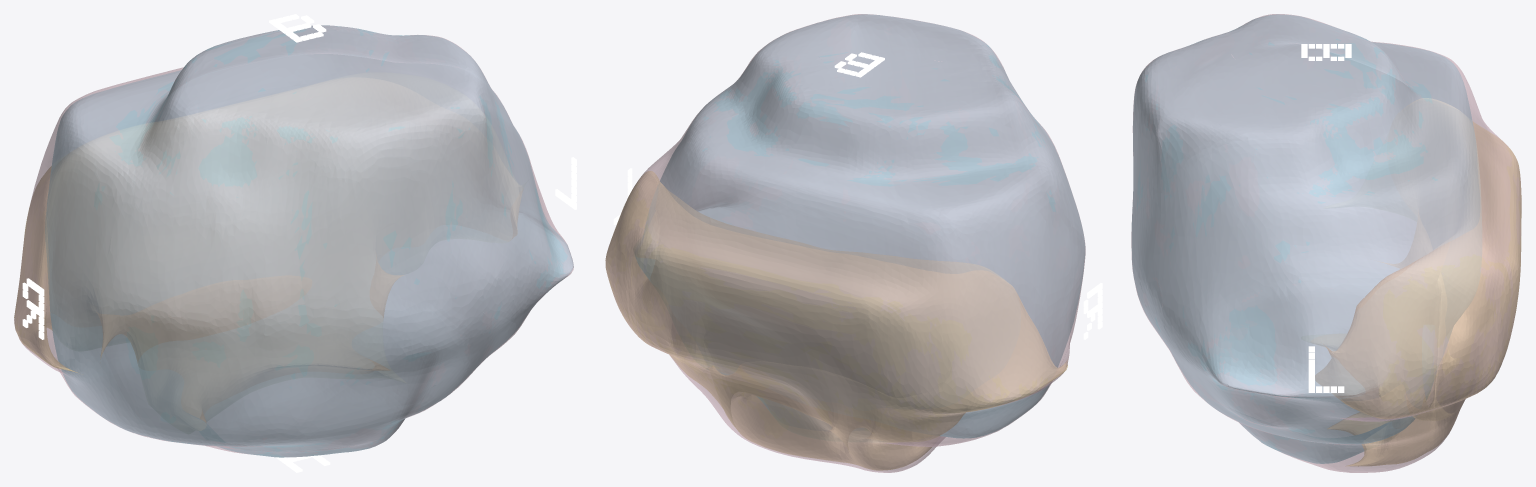
The picture shows the model from 3 angles, left to right: view 1: azimuth 30°, elevation 25°; view 2: azimuth 150°, elevation 25°; view 3: azimuth 270°, elevation 25°; orthographic projection. The views are drawn at different scales.
Parts seen in each view (by area): view 1: prostate_gland, transition_zone, peripheral_zone, pv_ar_marker_R, pv_ar_marker_B; view 2: prostate_gland, transition_zone, peripheral_zone, pv_ar_marker_B, pv_ar_marker_R; view 3: prostate_gland, transition_zone, peripheral_zone, pv_ar_marker_B, pv_ar_marker_L.
Part boxes in pixels (bbox=[...]): prostate_gland: bbox=[14, 25, 573, 457]; transition_zone: bbox=[45, 25, 573, 457]; peripheral_zone: bbox=[14, 148, 523, 422]; pv_ar_marker_R: bbox=[22, 278, 44, 339]; pv_ar_marker_B: bbox=[269, 14, 326, 42]; prostate_gland: bbox=[606, 14, 1085, 472]; transition_zone: bbox=[635, 14, 1084, 438]; peripheral_zone: bbox=[605, 171, 1067, 470]; pv_ar_marker_B: bbox=[834, 52, 884, 77]; pv_ar_marker_R: bbox=[1083, 283, 1102, 339]; prostate_gland: bbox=[1131, 14, 1521, 472]; transition_zone: bbox=[1132, 14, 1481, 463]; peripheral_zone: bbox=[1315, 98, 1521, 466]; pv_ar_marker_B: bbox=[1301, 44, 1351, 60]; pv_ar_marker_L: bbox=[1308, 346, 1344, 392].
Size of the model in its own units: 0.0615 by 0.0475 by 0.0423.
